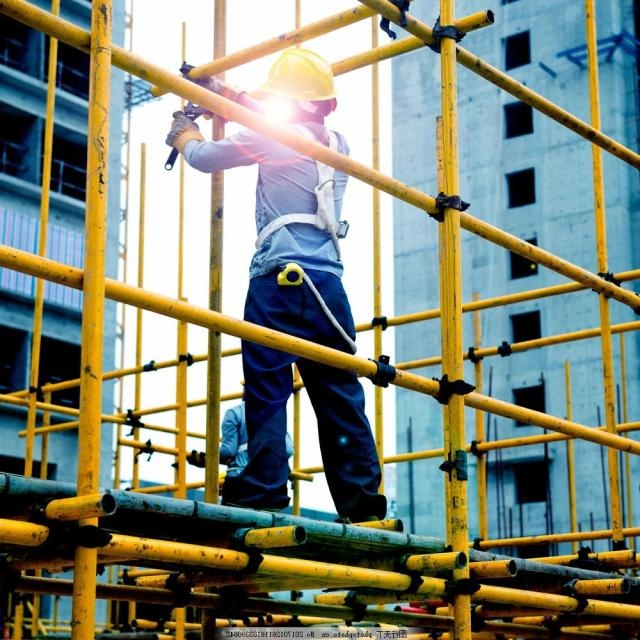Con_Casco: (253, 46, 341, 120)
